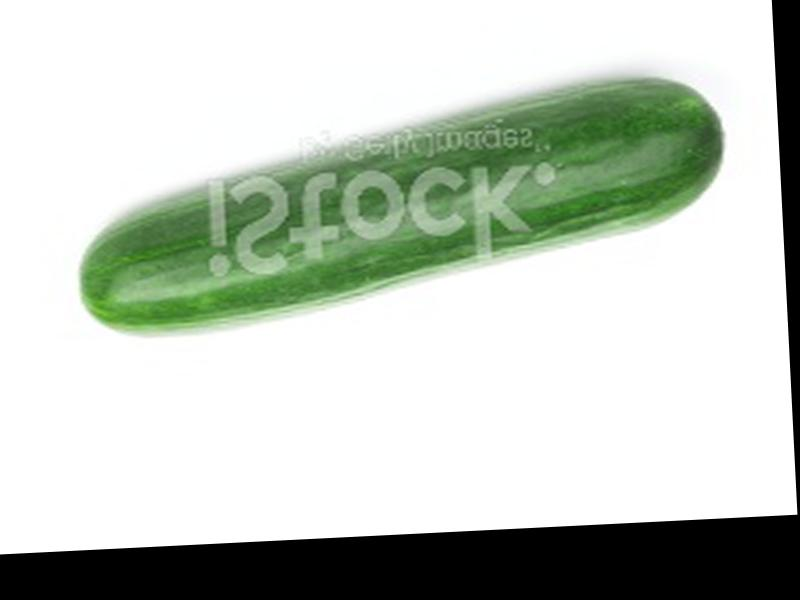Cucumber: (68, 75, 734, 338)
